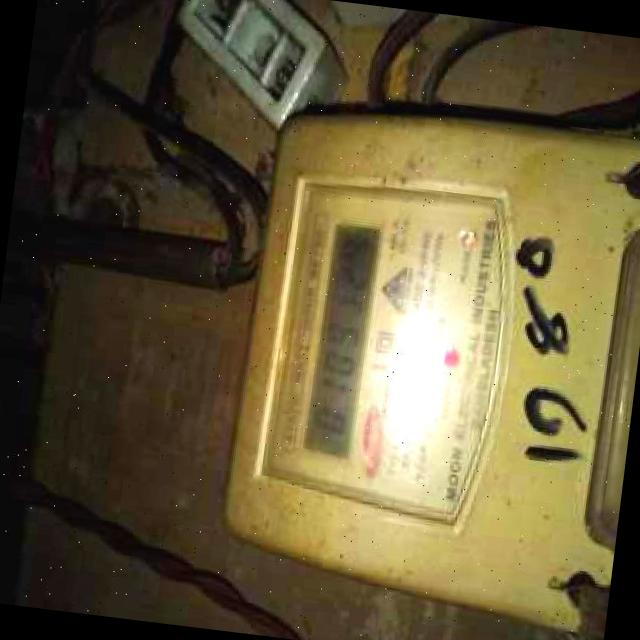LCD: (292, 212, 396, 466)
